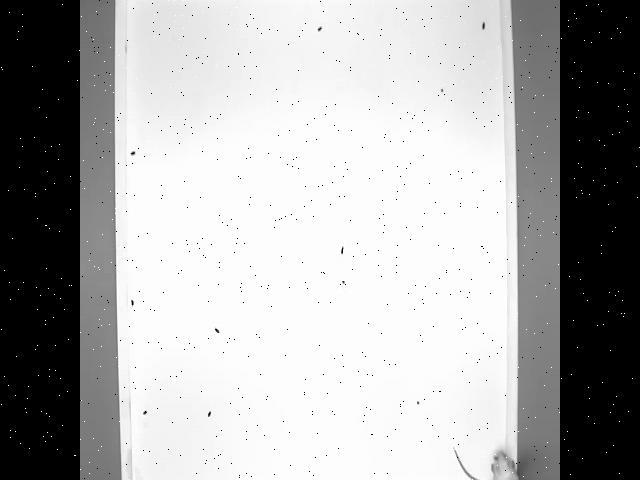Tikus: (457, 418, 517, 480)
